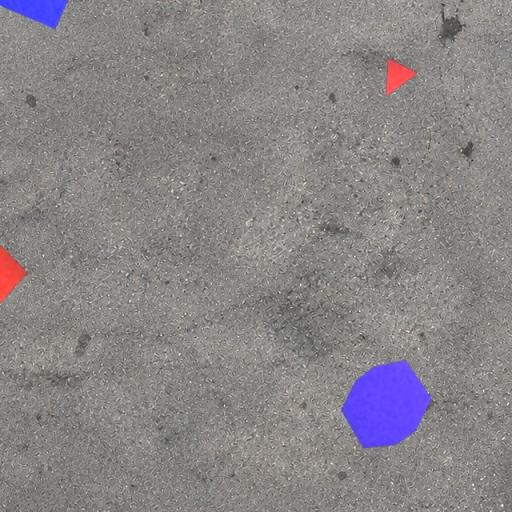RED_SQUARE: (0, 238, 29, 306)
